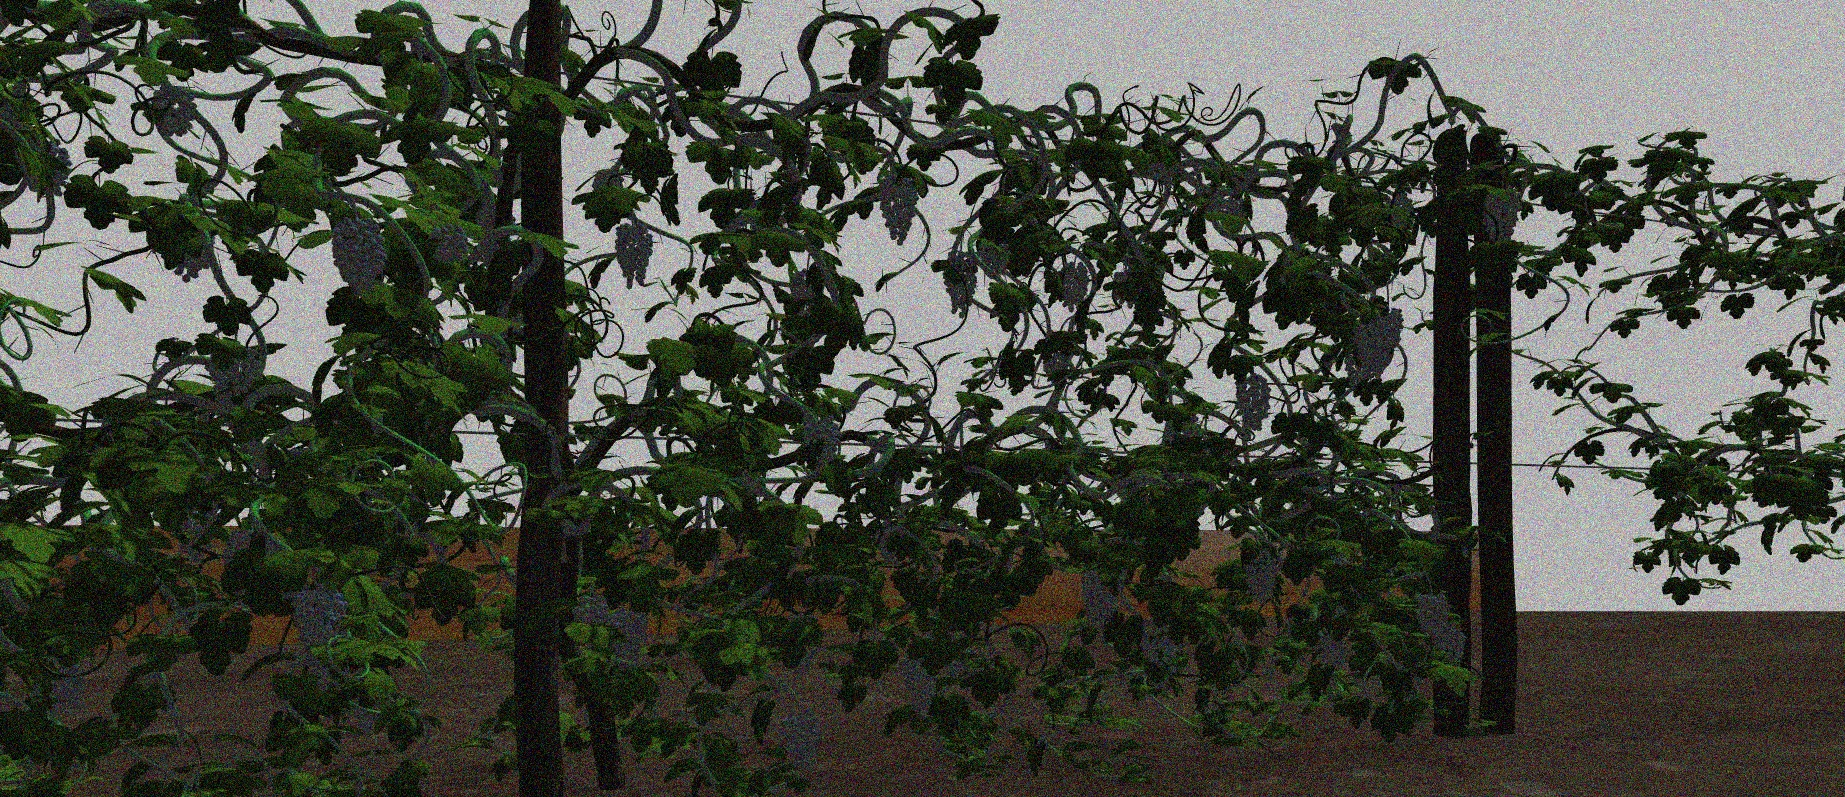grape: (291, 583, 348, 693), (329, 210, 387, 294), (1356, 306, 1405, 378), (204, 347, 260, 410), (878, 170, 919, 246), (33, 663, 85, 717), (1078, 566, 1119, 633), (943, 248, 979, 323), (800, 413, 842, 474), (614, 223, 653, 288), (899, 658, 939, 718), (1481, 186, 1523, 244), (784, 709, 822, 769), (610, 606, 650, 664), (1235, 372, 1272, 431), (1244, 547, 1280, 606), (152, 89, 197, 137), (1055, 261, 1090, 311), (1417, 589, 1451, 638), (429, 223, 468, 263), (1432, 629, 1467, 664), (572, 595, 610, 627), (1143, 635, 1179, 668), (1316, 632, 1348, 668)
